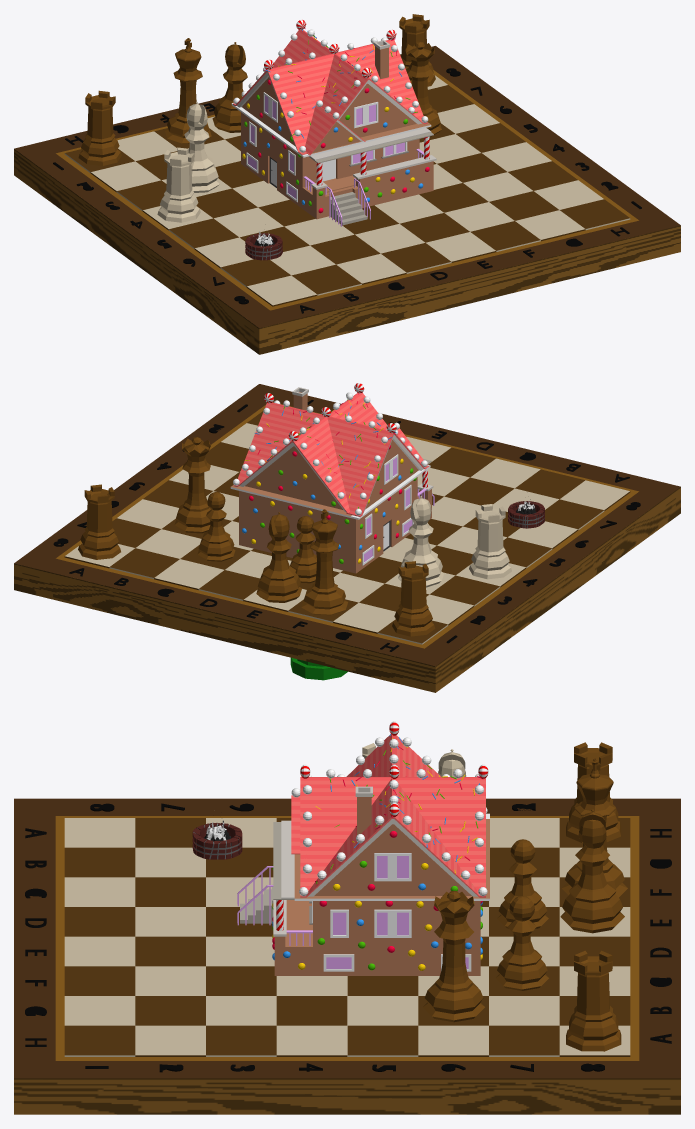
3 views of the same model, one above another, from view 1: azimuth 30°, elevation 25°; view 2: azimuth 150°, elevation 25°; view 3: azimuth 270°, elevation 25° (orthographic). The views are drawn at different scales.
Parts seen in each view (by area): view 1: Cube.002, Cube.1203, OBJRANDOM_CAMPFIRE; view 2: Cube.002, Cube.1203, OBJRANDOM_CAMPFIRE, UNDERGROUND_PIPES; view 3: Cube.002, Cube.1203, OBJRANDOM_CAMPFIRE.
Part boxes in pixels (bbox=[...]): Cube.002: bbox=[14, 14, 680, 354]; Cube.1203: bbox=[231, 19, 436, 226]; OBJRANDOM_CAMPFIRE: bbox=[245, 231, 282, 260]; Cube.002: bbox=[14, 384, 680, 692]; Cube.1203: bbox=[230, 383, 434, 573]; OBJRANDOM_CAMPFIRE: bbox=[508, 499, 544, 528]; UNDERGROUND_PIPES: bbox=[290, 657, 347, 680]; Cube.002: bbox=[14, 742, 680, 1114]; Cube.1203: bbox=[237, 721, 489, 975]; OBJRANDOM_CAMPFIRE: bbox=[192, 820, 242, 859].
Bounding box in the file's own units: 3981 × 2069 × 4012.
Materials: 29 (3 with a texture image).
